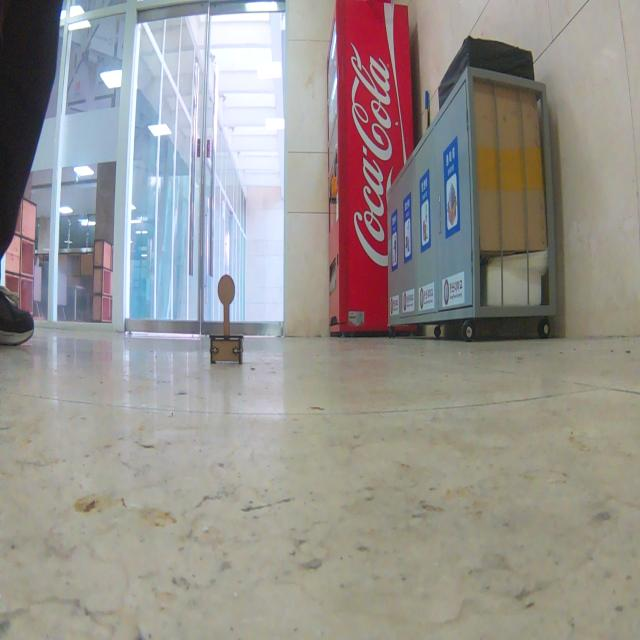target: (209, 274, 244, 364)
